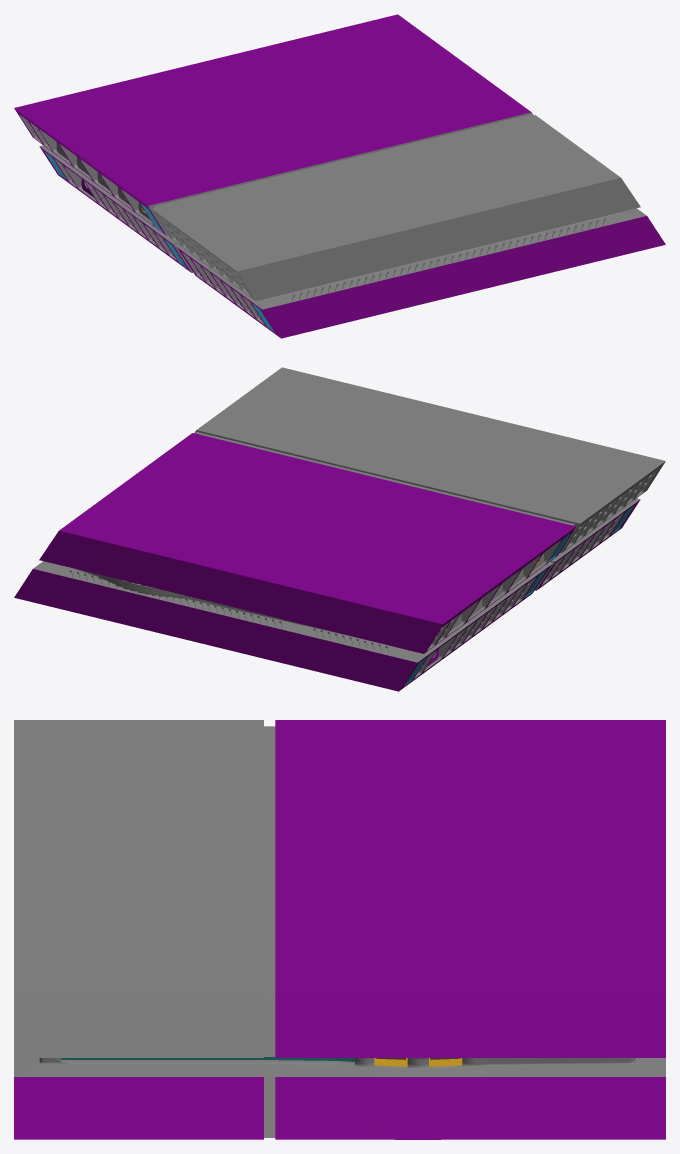
The picture shows the model from 3 angles, top to bottom: view 1: azimuth 30°, elevation 25°; view 2: azimuth 150°, elevation 25°; view 3: azimuth 270°, elevation 25°; orthographic projection. The views are drawn at different scales.
Parts seen in each view (by area): view 1: Cube; view 2: Cube; view 3: Cube.
Boxes of the visible parts, x1,y1,x2,y2 form: Cube: (14,14,665,338); Cube: (14,367,665,691); Cube: (14,720,665,1139).
Size of the model in its own units: 197 by 34.24 by 178.
